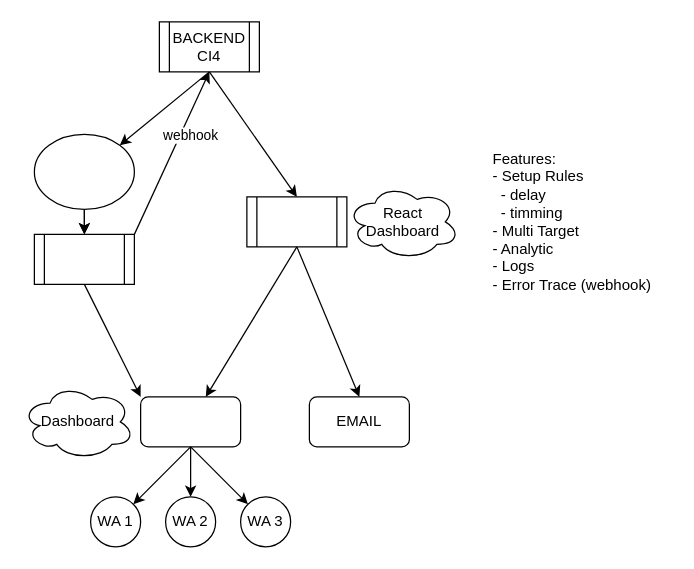
Image size: 694x569. Some labels were removed from this diagram. The box of each missing label's shape, as (x1, y1, x2, y2) in pixels:
BACKEND ApiMQ: (246, 196, 347, 247)
BACKEND Consumer: (33, 233, 134, 284)
GOWA: (139, 396, 241, 447)
Queue RabbitMQ: (33, 133, 134, 209)
